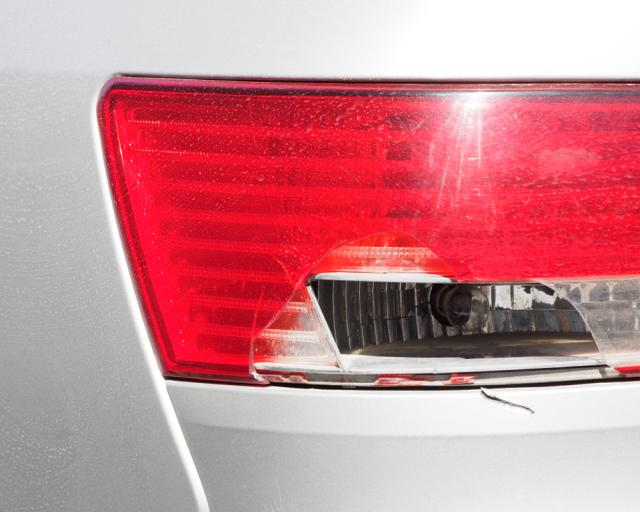crack: (480, 390, 536, 415)
lamp broken: (97, 75, 640, 389)
